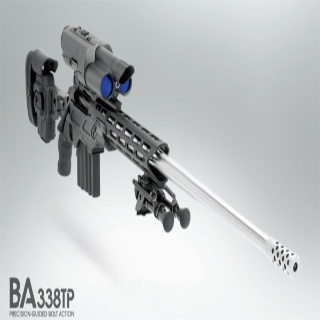rifle: (24, 23, 301, 280)
